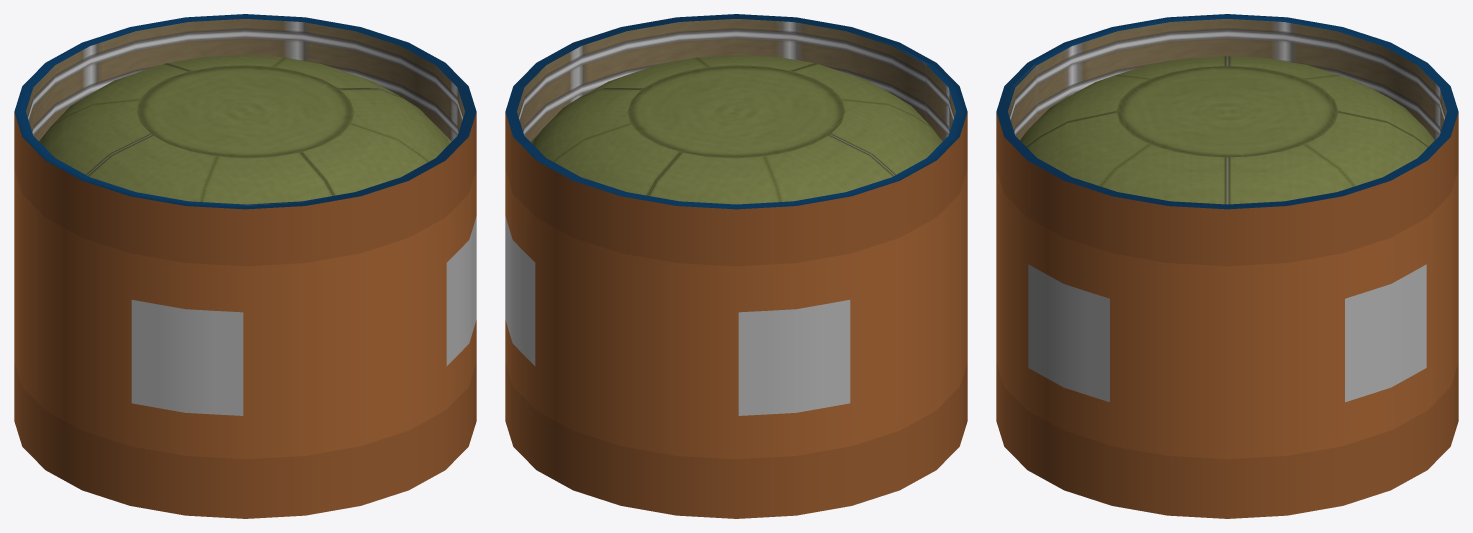
The model's file is FLM-3600M.FBX.
The picture shows the model from 3 angles, left to right: view 1: azimuth 30°, elevation 25°; view 2: azimuth 150°, elevation 25°; view 3: azimuth 270°, elevation 25°; orthographic projection.
Parts seen in each view (by area): view 1: TankBody, TankSleeve001, EndCap001, TankSleeve002, decalPanel004, decalPanel001; view 2: TankBody, TankSleeve001, EndCap001, TankSleeve002, decalPanel003, decalPanel002; view 3: TankBody, TankSleeve001, EndCap001, TankSleeve002, decalPanel001, decalPanel002.
Boxes of the visible parts, x1,y1,x2,y2 form: TankBody: (14,169,476,459); TankSleeve001: (14,14,476,266); EndCap001: (39,55,451,204); TankSleeve002: (14,362,476,518); decalPanel004: (131,300,243,415); decalPanel001: (446,216,476,365); TankBody: (505,169,967,459); TankSleeve001: (505,14,967,266); EndCap001: (530,55,942,204); TankSleeve002: (505,362,967,518); decalPanel003: (738,300,850,415); decalPanel002: (505,216,535,365); TankBody: (996,169,1458,459); TankSleeve001: (996,14,1458,266); EndCap001: (1020,56,1434,204); TankSleeve002: (996,362,1458,518); decalPanel001: (1028,264,1109,402); decalPanel002: (1345,264,1426,402).
Size of what is drawn, in the model's own units: 2.5 by 2.5 by 1.85.
